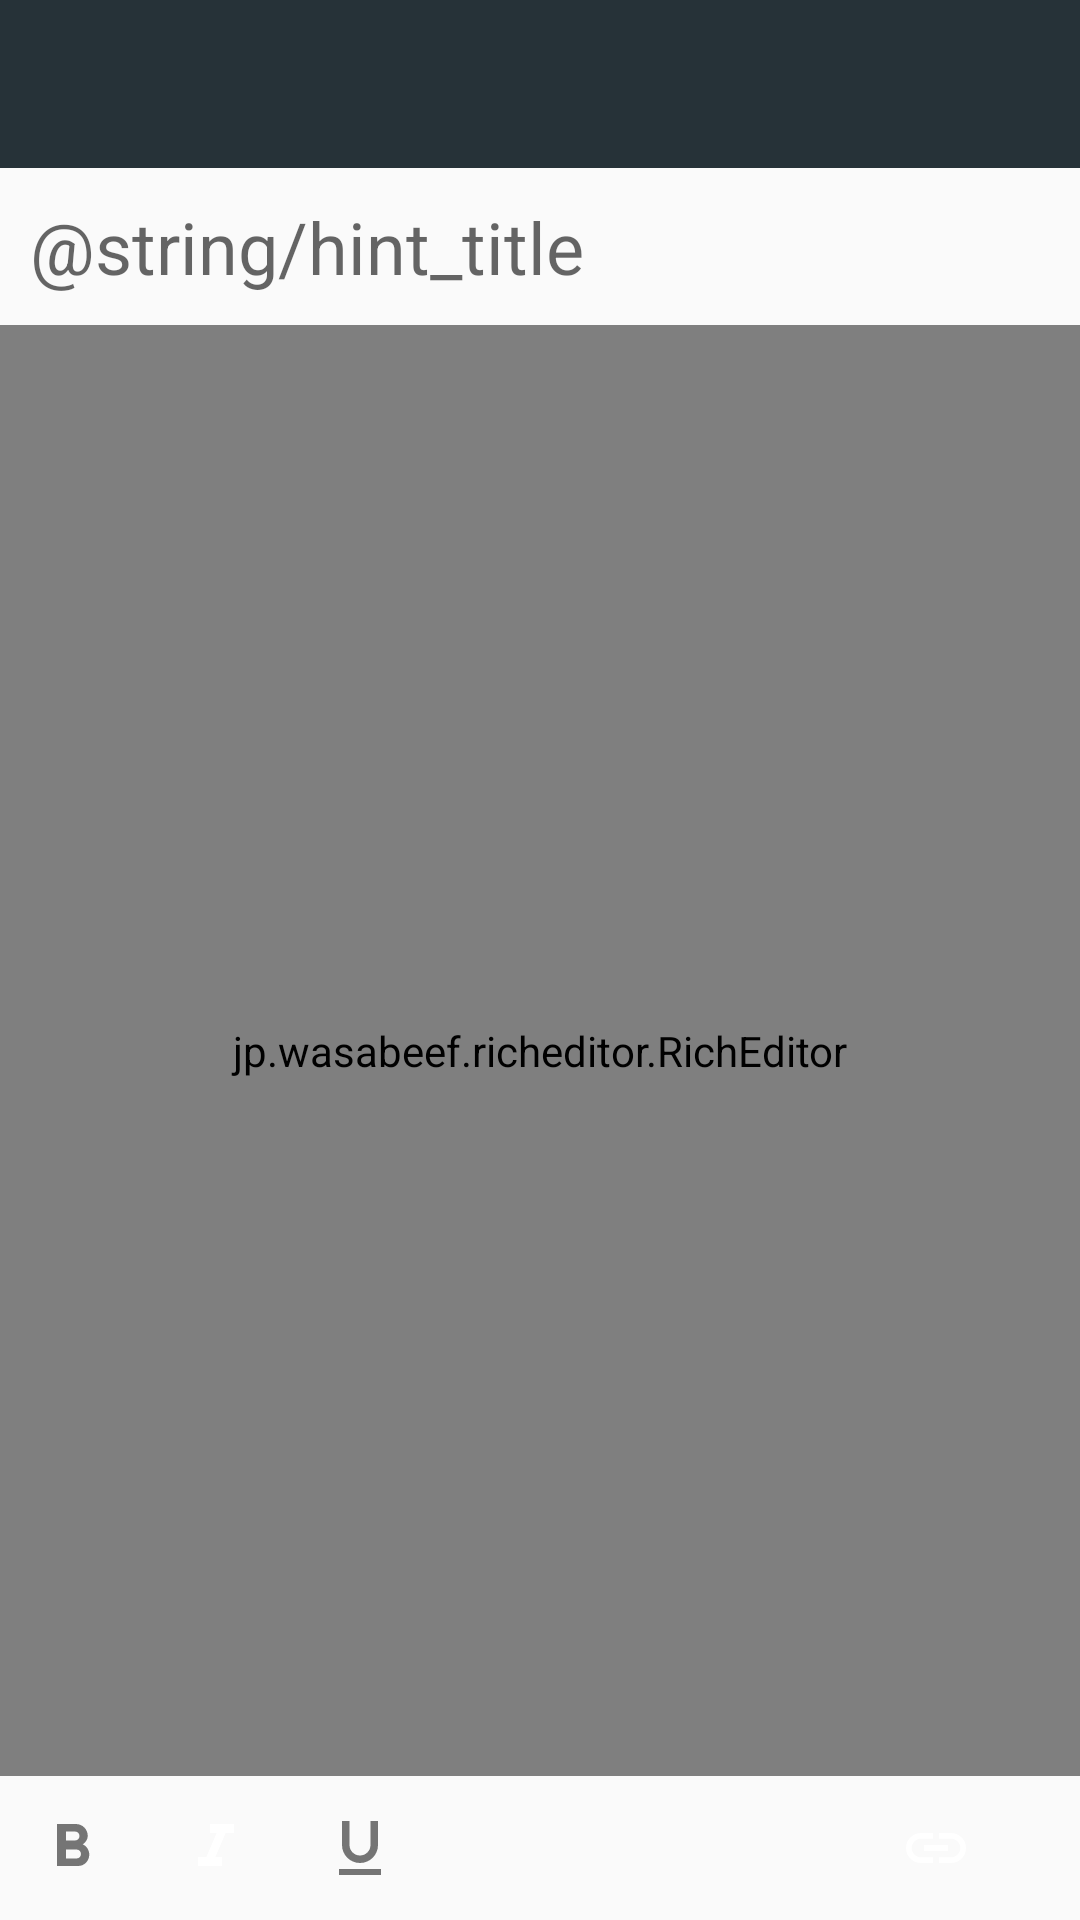

Icon bounding boxes for this 1080px×1920px phone screenshot, format box=[x1, y1, x2, y2]:
format: box=[57, 1824, 90, 1866]
format underline: box=[339, 1821, 381, 1875]
